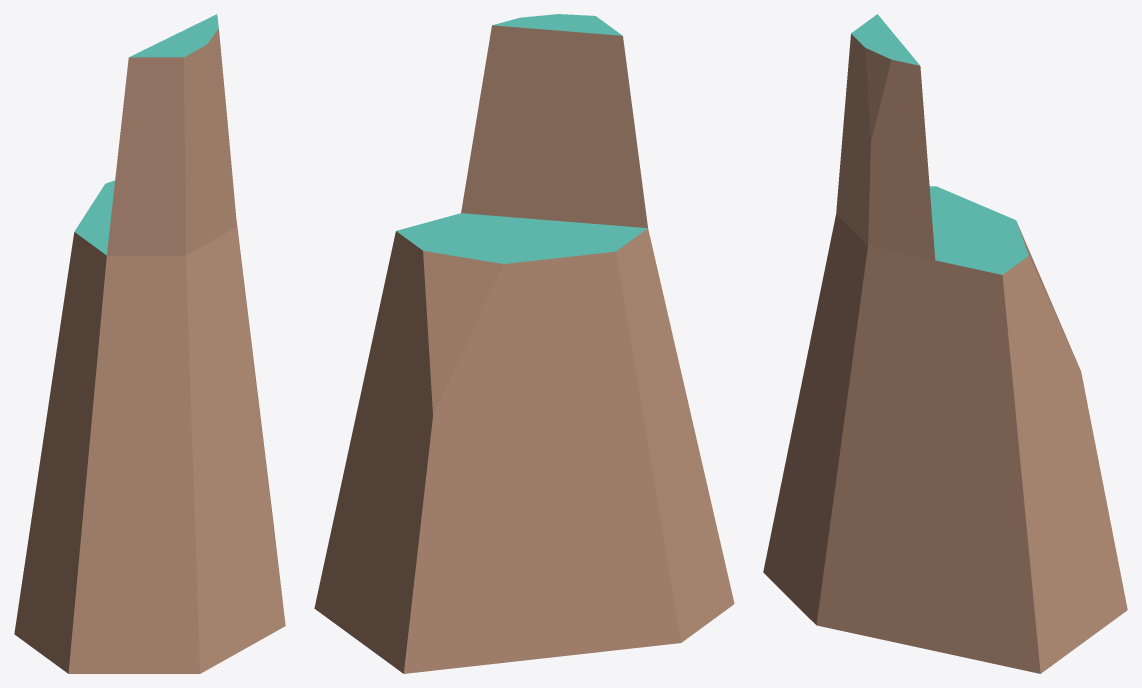
File: rock_tallD.glb
The picture shows the model from 3 angles, left to right: view 1: azimuth 30°, elevation 25°; view 2: azimuth 150°, elevation 25°; view 3: azimuth 270°, elevation 25°; orthographic projection. The views are drawn at different scales.
Parts seen in each view (by area): view 1: rock_tallD; view 2: rock_tallD; view 3: rock_tallD.
Boxes of the visible parts, bbox=[...] form: rock_tallD: bbox=[14, 14, 285, 673]; rock_tallD: bbox=[314, 14, 734, 673]; rock_tallD: bbox=[763, 14, 1127, 673].
Bounding box in the file's own units: 0.4428 × 0.7721 × 0.4615.
